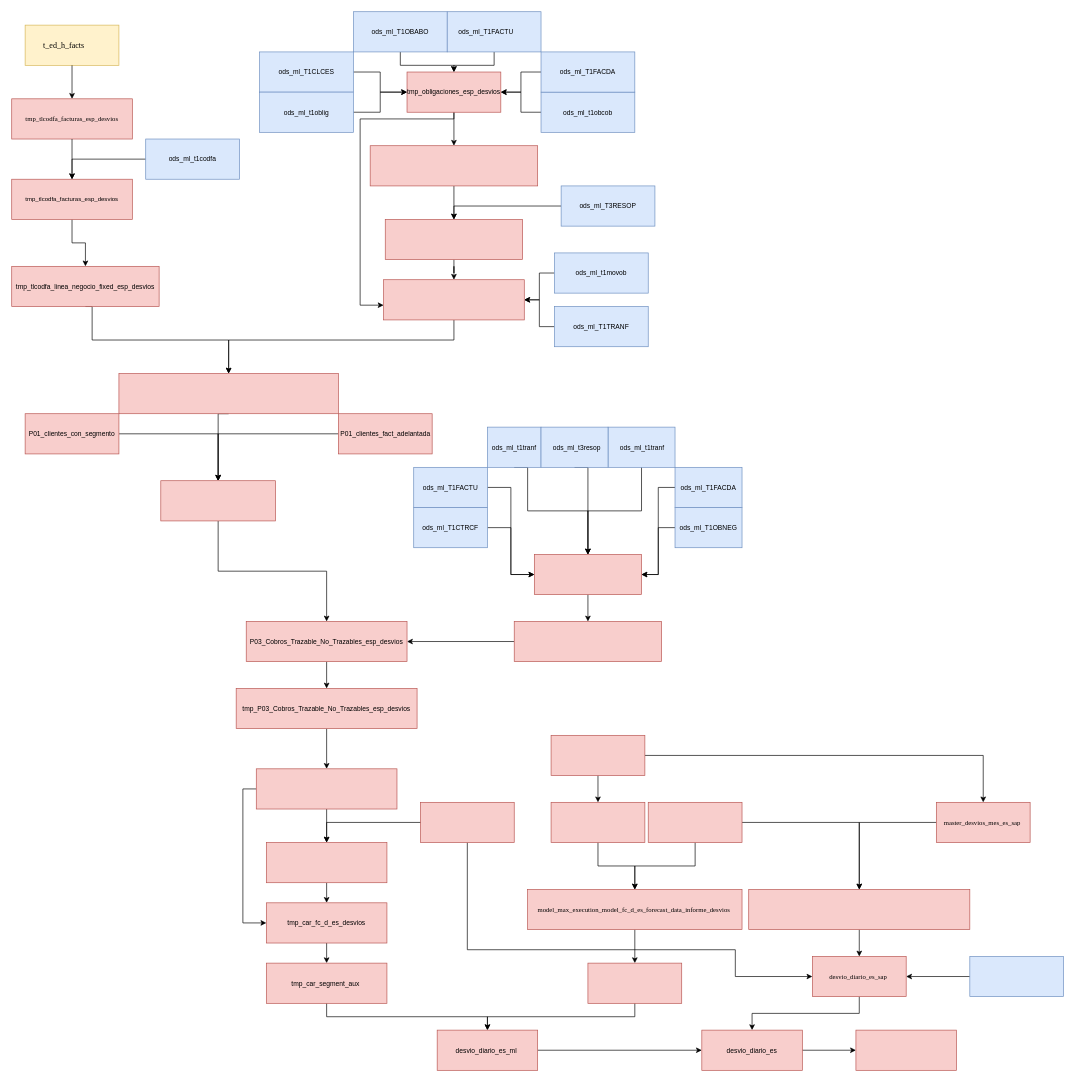
The diagram is 1075 pixels wide and 1082 high, and some of its shapes have lost their labels. The shapes that lost their labels are listed below. From the top down, each one's centre as x and y in pixels, then its label:
At point (454, 165): "tmp_obligaciones_contratos_T3RESOP_esp_desvios".
At point (454, 239): "tmp_Movimientos_T3RESOP_esp_desvios".
At point (453, 299): "tmp_Movimientos_Obligacion_esp_desvios".
At point (228, 393): "tmp_Movimientos_Obligacion_Acuerdos_Extra_Fixed_LN_esp_desvios".
At point (218, 500): "tmp_Cobros_Trazable_esp_desvios".
At point (588, 574): "tmp_car_cf_no_trazable_desvios".
At point (588, 641): "P02_car_cobros_no_trazable_esp_por_desvios".
At point (597, 755): "master_models_execution_esp".
At point (326, 788): "tmp_car_cobro_drivers_esp_diario_desvios".
At point (467, 822): "master_var_typeofday".
At point (597, 822): "master_desvios_mes_es".
At point (695, 822): "model_fc_d_es_forecast".
At point (326, 862): "tmp_master_dias_segmentos_desvios".
At point (859, 909): "model_max_execution_model_fc_d_es_forecast_data_informe_desvios_sap".
At point (634, 982): "model_execution_grouped_es".
At point (1016, 976): "ods_fenix_zfic_t_cuadre".
At point (905, 1049): "desvio_diario_es_hist".
